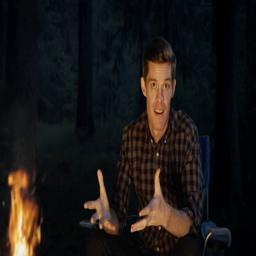fire: (8, 170, 41, 256)
